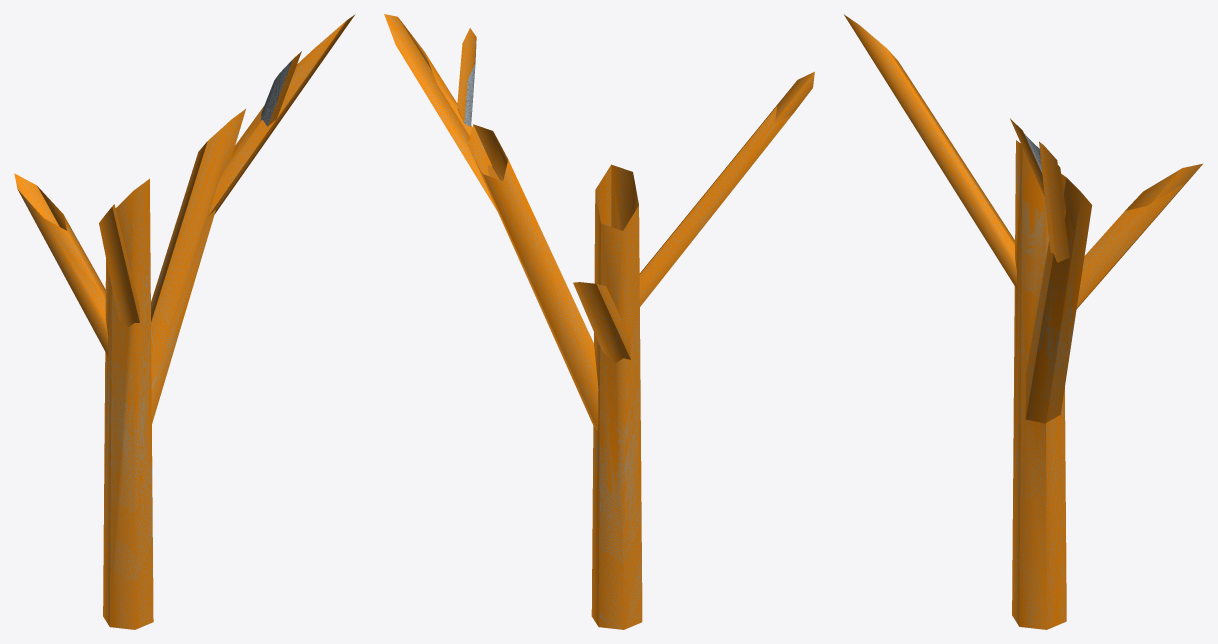
Rendered from CanadianMaple_wood(orange).obj.
3 renders of one model, left to right at view 1: azimuth 30°, elevation 25°; view 2: azimuth 150°, elevation 25°; view 3: azimuth 270°, elevation 25°, orthographic. The views are drawn at different scales.
Visible parts, largest first — view 1: Mesh1 Group1 Model; view 2: Mesh1 Group1 Model; view 3: Mesh1 Group1 Model.
Boxes of the visible parts, bbox=[...] form: Mesh1 Group1 Model: bbox=[14, 14, 355, 629]; Mesh1 Group1 Model: bbox=[384, 14, 814, 629]; Mesh1 Group1 Model: bbox=[844, 14, 1202, 629].
Bounding box in the file's own units: 2323 × 3585 × 1968.
